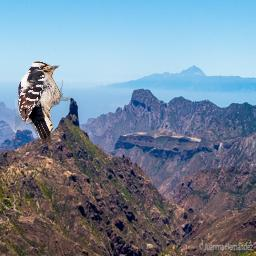Woodpecker: (15, 60, 71, 145)
